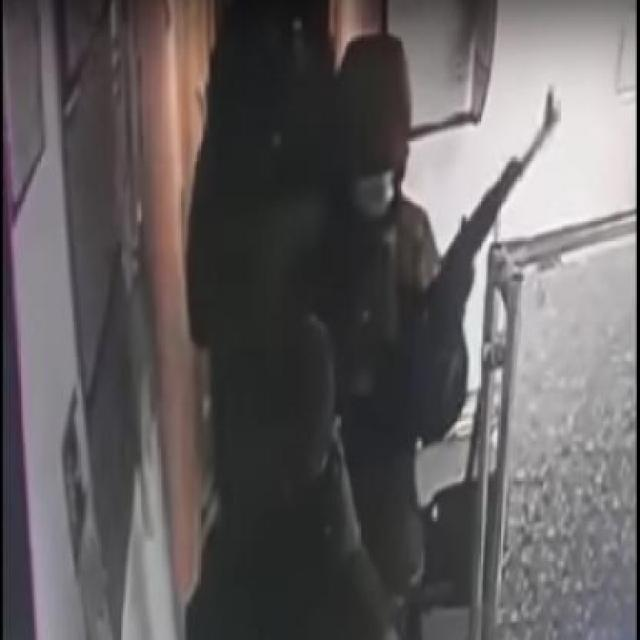weapon: (402, 81, 593, 410)
